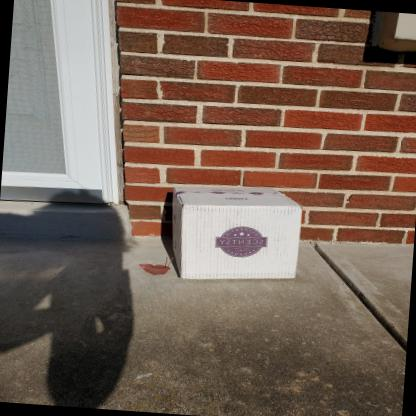box: (169, 183, 303, 280)
